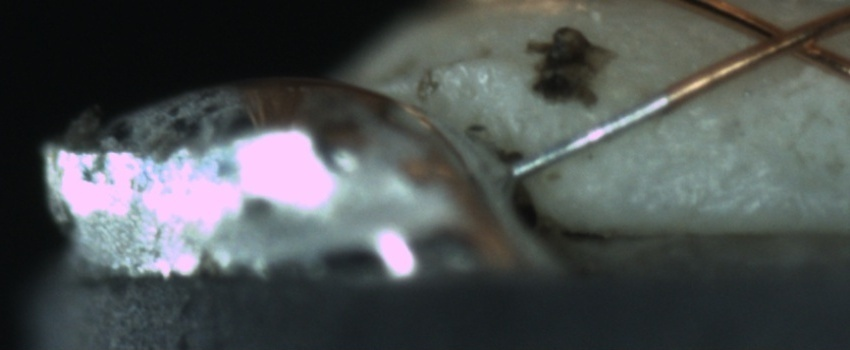CL: (739, 8, 839, 68)
TS: (506, 91, 667, 182)
